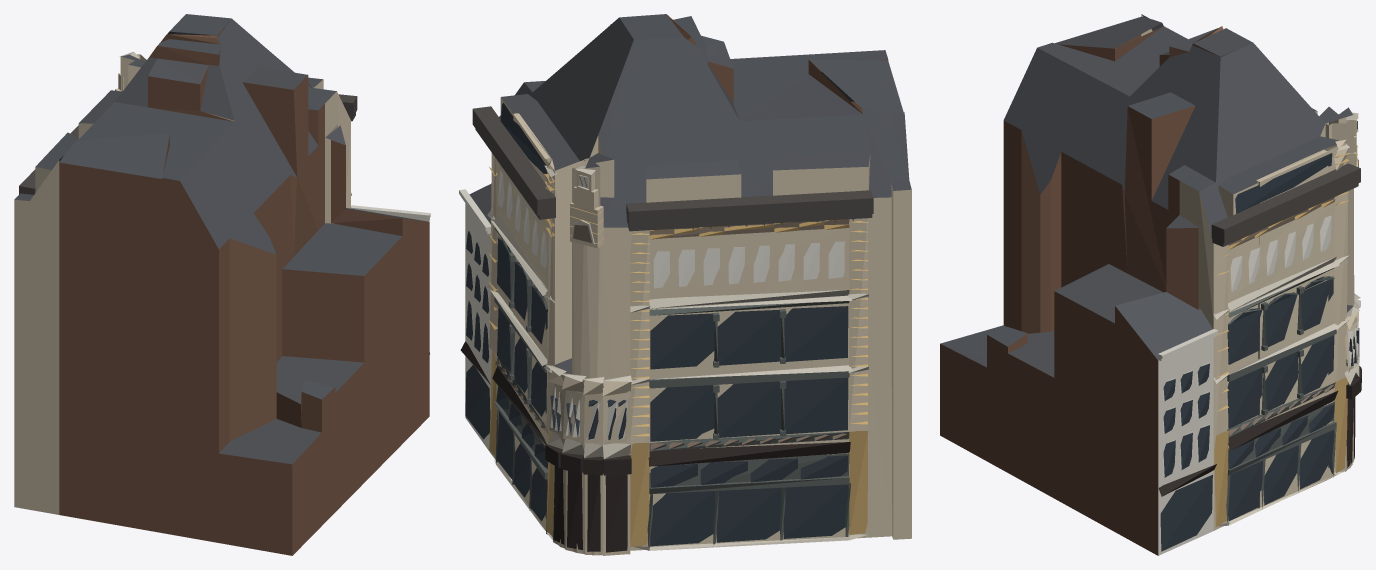
File: leidsestraat-1.lod1.glb
3 views of the same model, side by side, from view 1: azimuth 30°, elevation 25°; view 2: azimuth 150°, elevation 25°; view 3: azimuth 270°, elevation 25° (orthographic). The views are drawn at different scales.
Parts seen in each view (by area): view 1: leidsestraat-1; view 2: leidsestraat-1; view 3: leidsestraat-1.
Boxes of the visible parts, <box> form: leidsestraat-1: <box>14,14,430,555</box>; leidsestraat-1: <box>459,14,911,555</box>; leidsestraat-1: <box>940,14,1361,555</box>.
Size of the model in its own units: 31.29 by 30.51 by 27.93.
